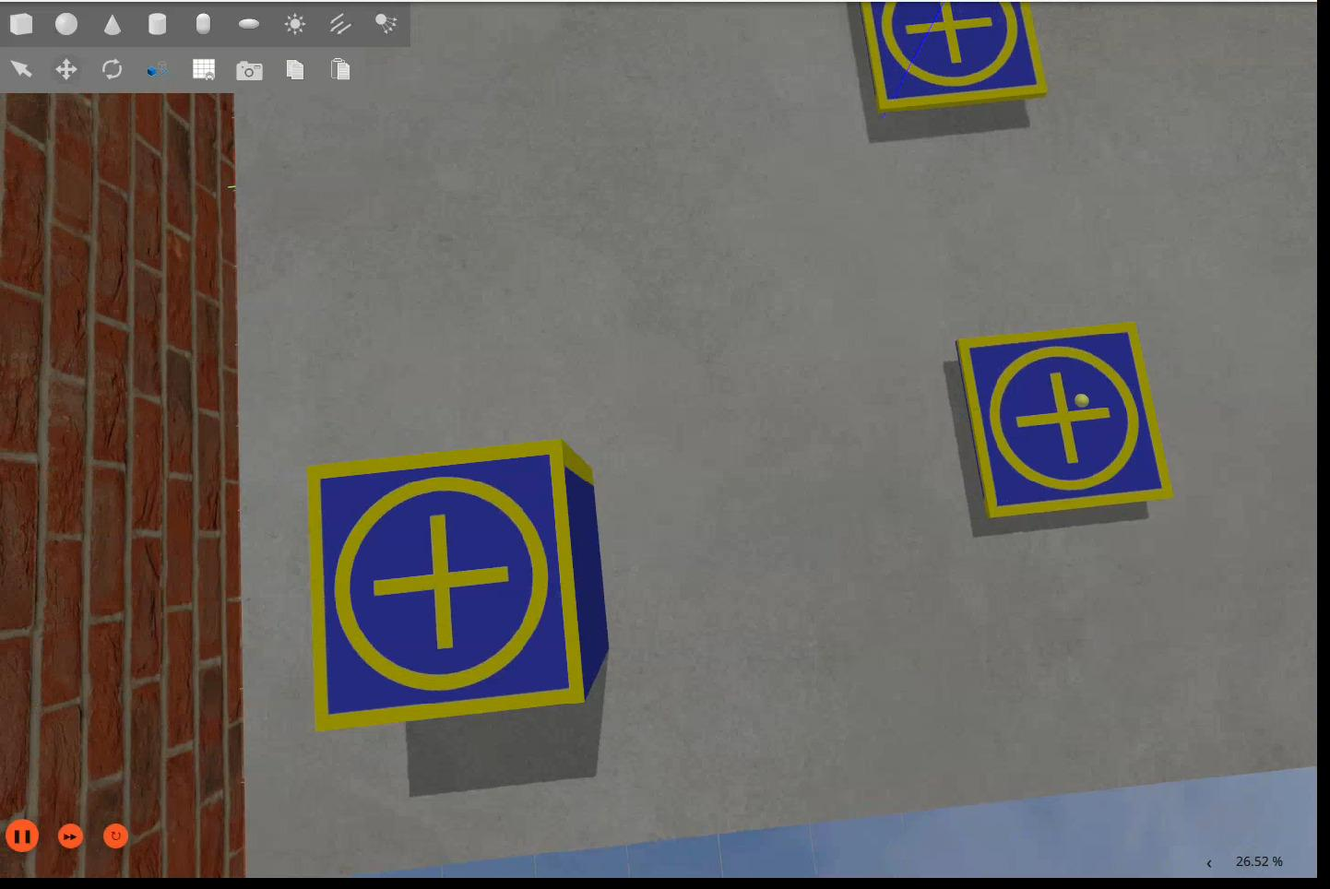small_base: (306, 442, 592, 735), (955, 322, 1180, 522), (861, 1, 1051, 113)
